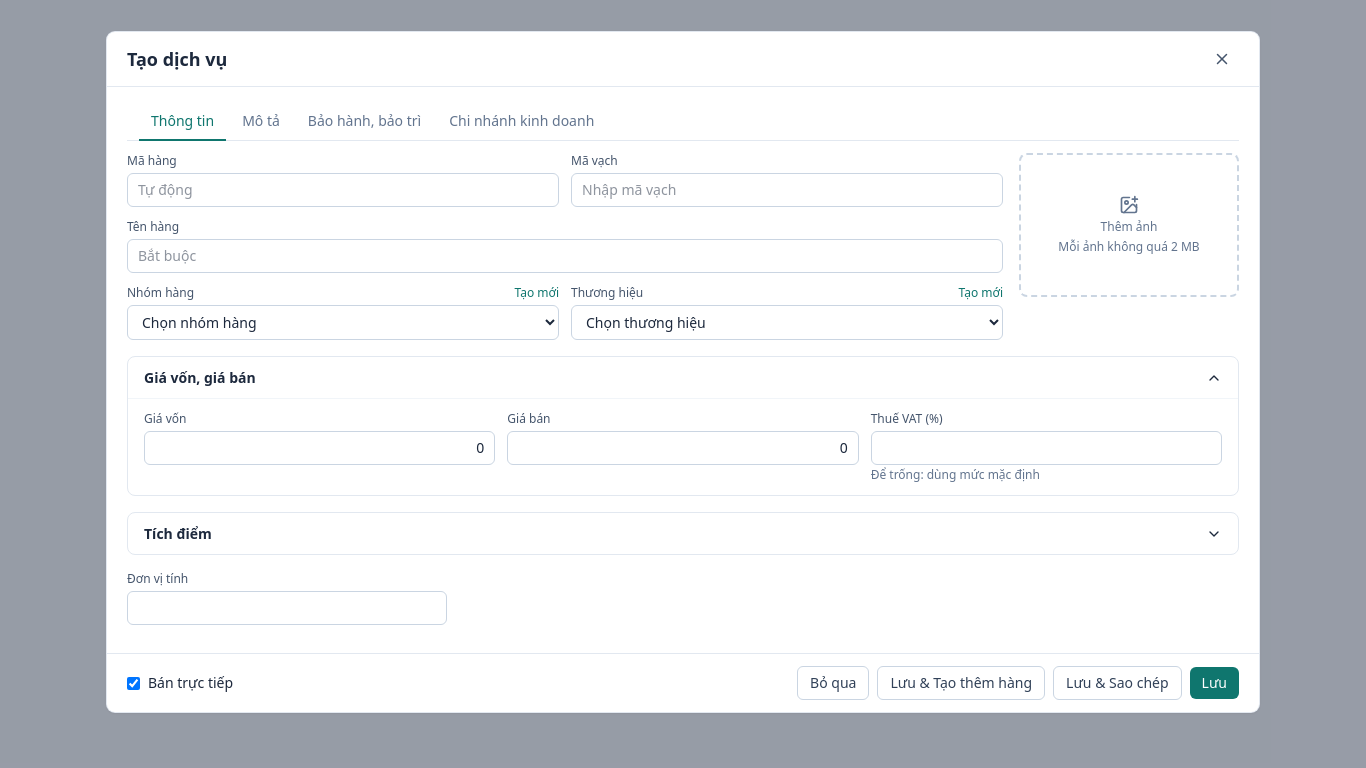
Scenario: saving without a name shows the required error and does not post
Click the button "Lưu" at (1214, 683), box [1190,667,1239,699]
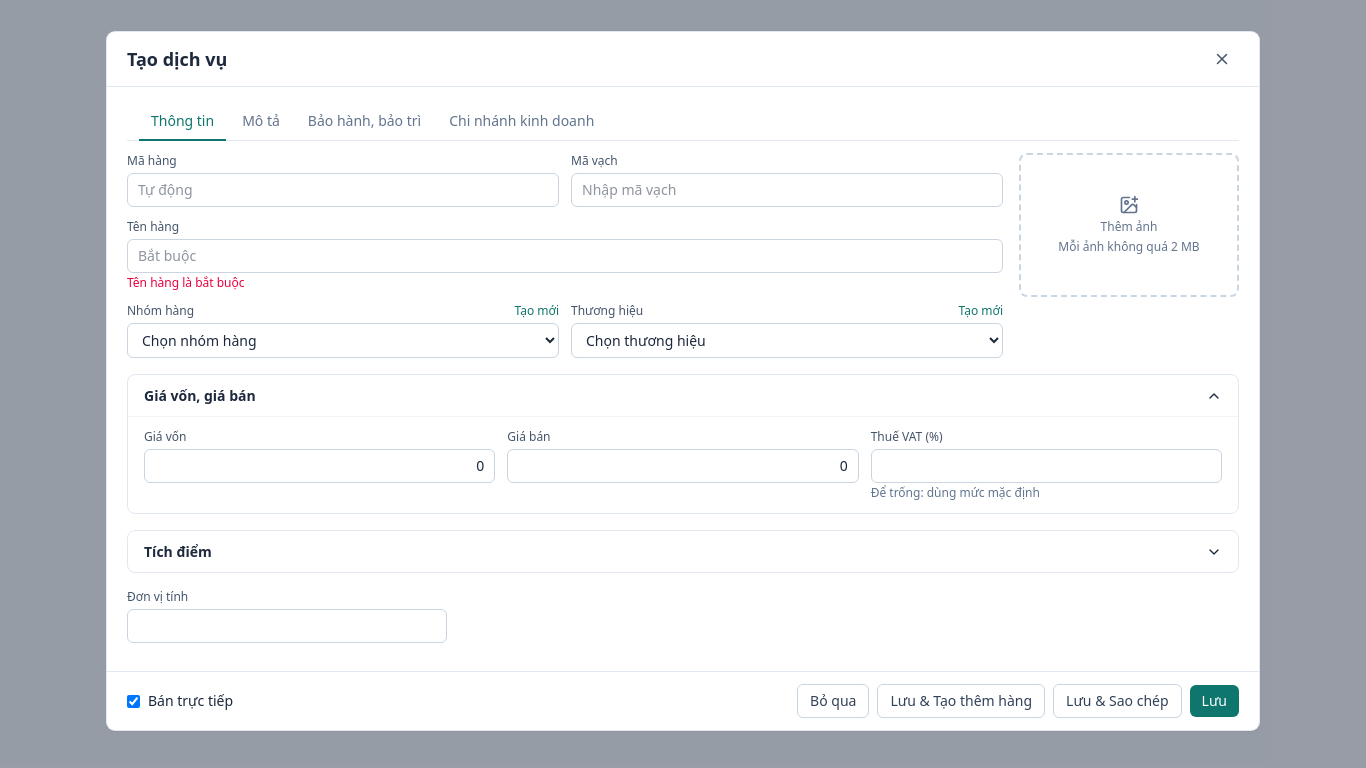
Check: the text "Tên hàng là bắt buộc" is shown, box [127,274,244,291]
